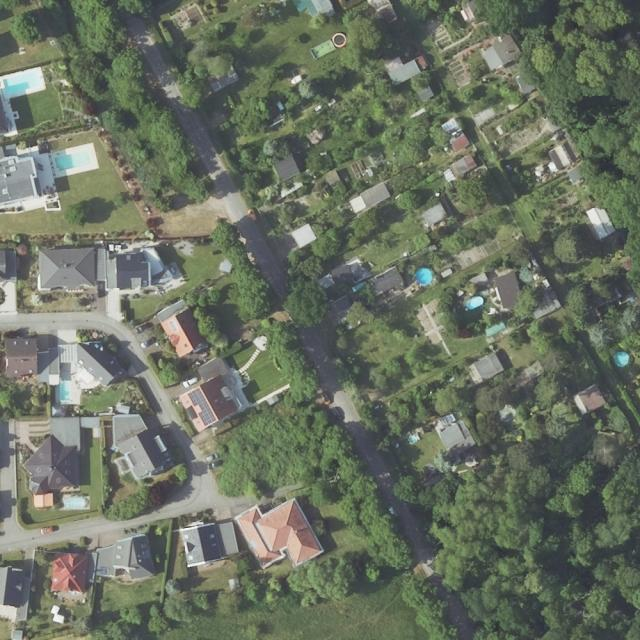PV: (187, 387, 216, 425)
